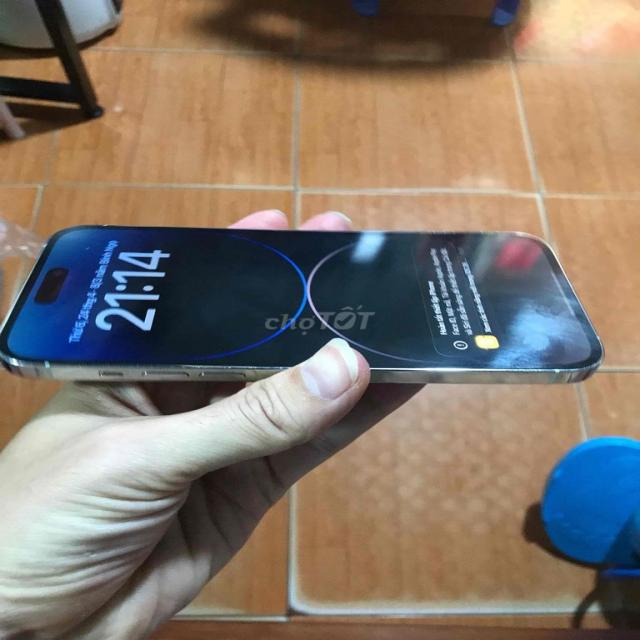gen_14: (0, 215, 616, 398)
